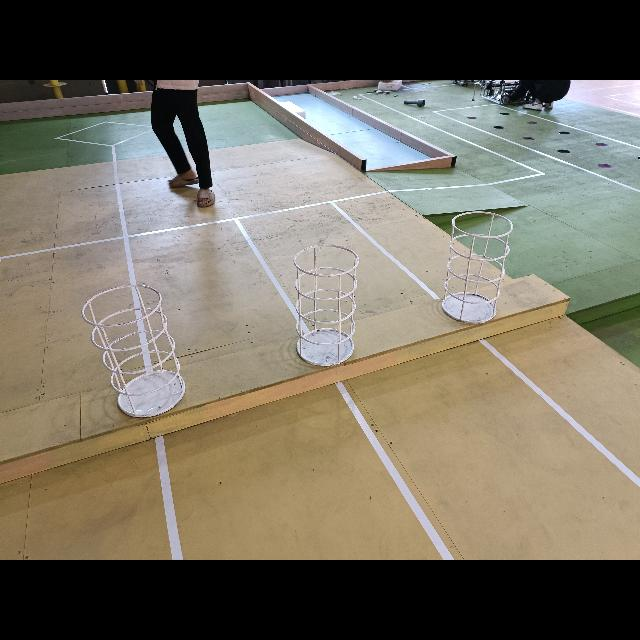S: (80, 284, 189, 424), (294, 243, 363, 370), (439, 210, 514, 325)
